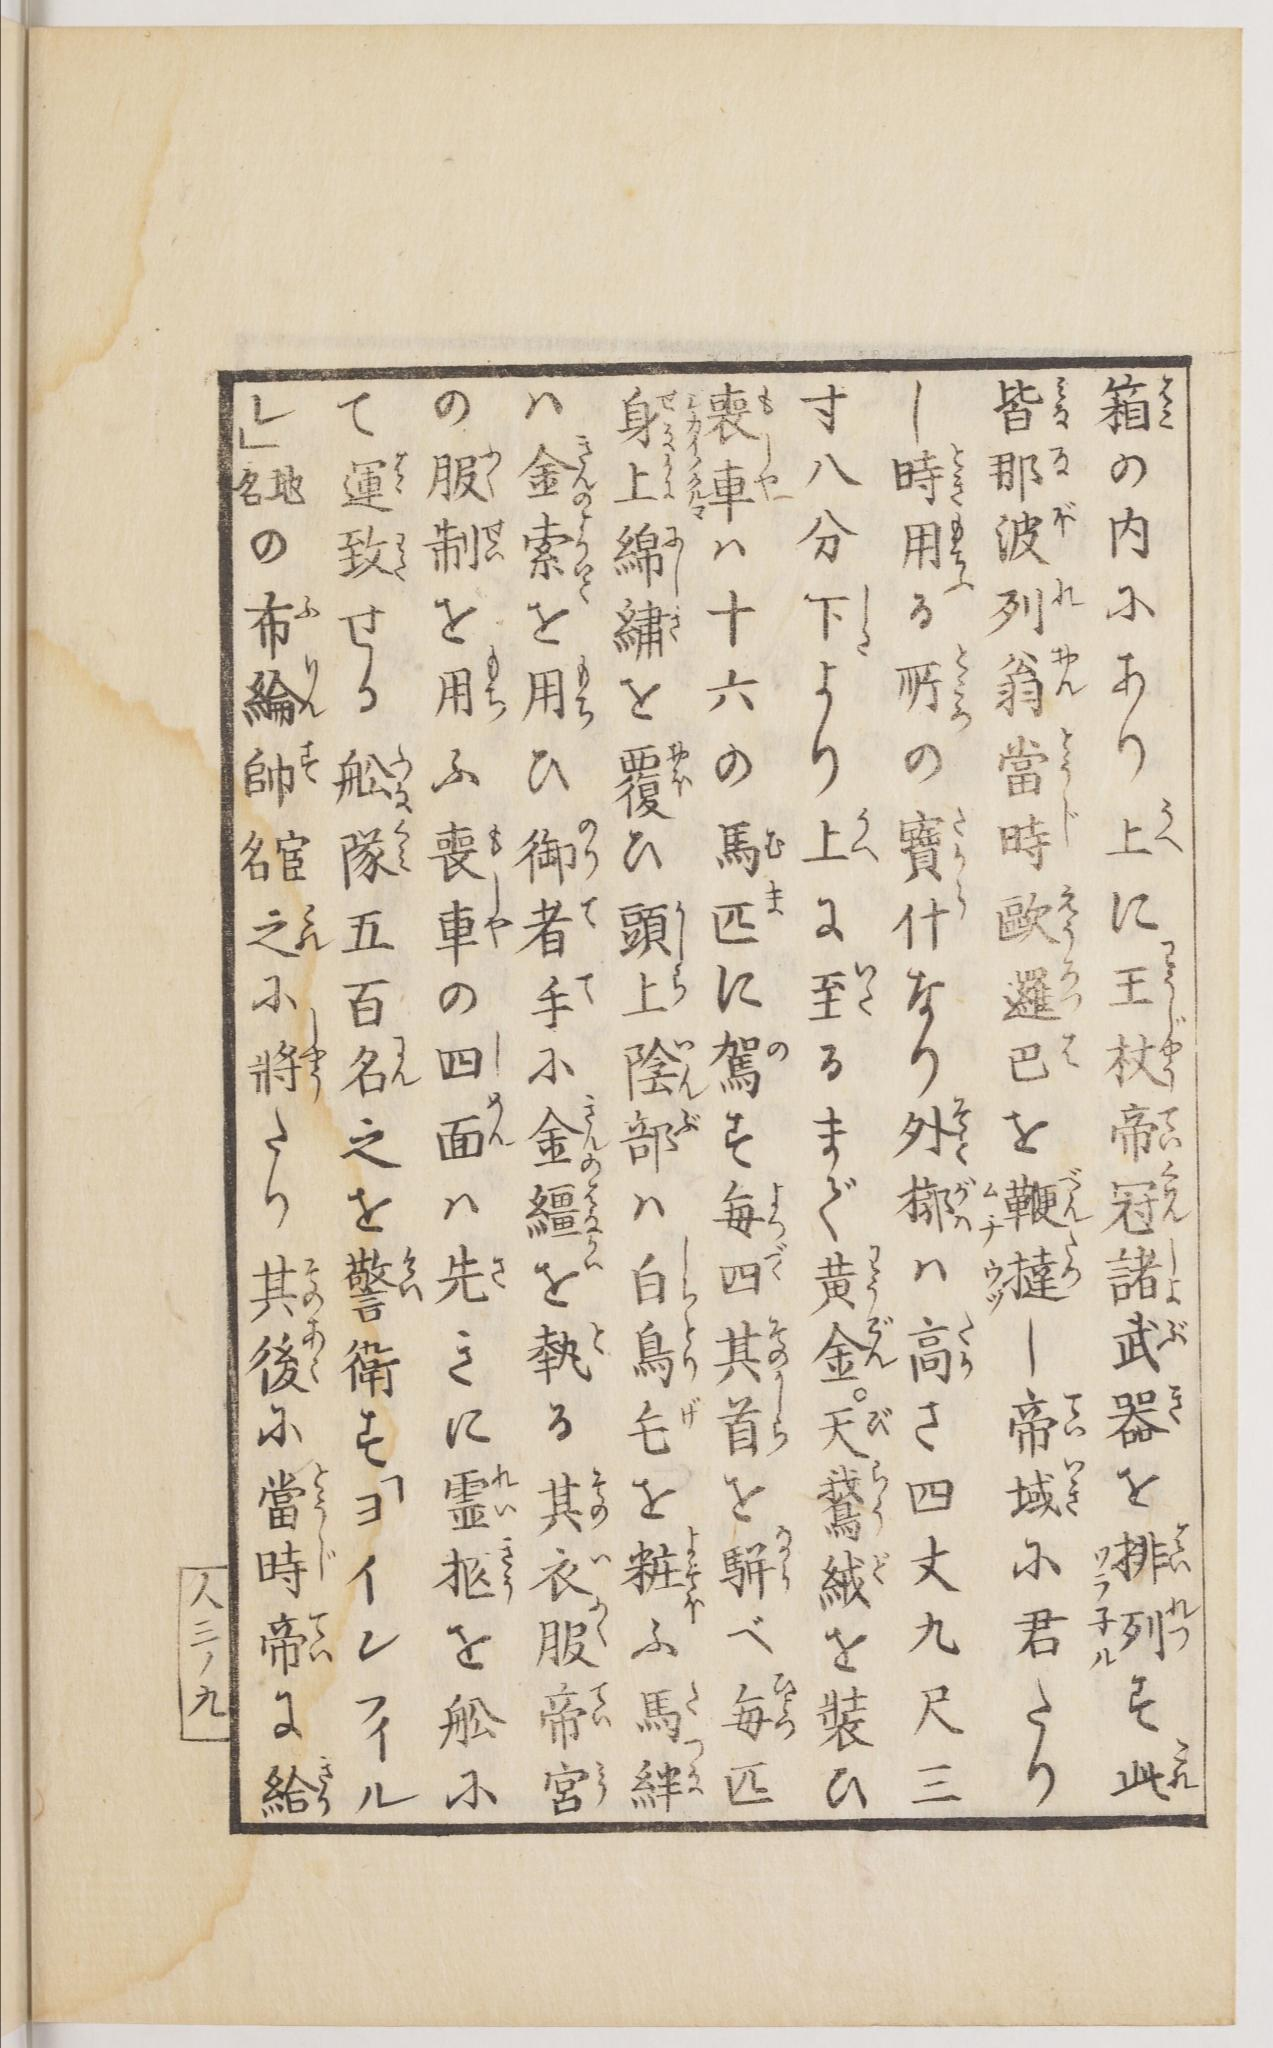MainZone-Character: (513, 1157, 610, 1270), (521, 494, 601, 603), (619, 1525, 708, 1621), (892, 644, 978, 733), (710, 1372, 793, 1459), (243, 1025, 336, 1101), (996, 720, 1082, 800), (1100, 1009, 1186, 1089), (716, 1522, 798, 1605), (612, 736, 692, 821), (625, 1737, 713, 1815), (710, 880, 795, 959), (984, 500, 1079, 570), (1101, 1161, 1191, 1234), (248, 1249, 330, 1328), (431, 648, 515, 726), (1122, 1583, 1198, 1668), (993, 645, 1088, 712), (434, 1536, 524, 1608), (613, 1031, 704, 1101), (242, 657, 324, 734), (428, 881, 510, 959), (999, 795, 1085, 868), (345, 1246, 425, 1324), (708, 1311, 792, 1385), (518, 657, 604, 729), (997, 885, 1085, 956), (887, 446, 975, 516), (1103, 1381, 1192, 1450), (899, 517, 978, 595), (997, 1454, 1093, 1519), (625, 1230, 701, 1311), (528, 1094, 609, 1170), (1107, 1737, 1198, 1805), (336, 740, 419, 814), (424, 1091, 509, 1163), (248, 1535, 345, 1598), (799, 583, 878, 660), (895, 1092, 975, 1167), (519, 888, 600, 963), (422, 516, 510, 583), (245, 582, 327, 654), (257, 1747, 339, 1819), (238, 740, 329, 805), (708, 1032, 793, 1101), (255, 1460, 343, 1526), (1005, 1167, 1094, 1231), (815, 1315, 900, 1382), (516, 815, 601, 883), (522, 430, 598, 504), (820, 1457, 890, 1538), (433, 1466, 521, 1531), (329, 824, 422, 884), (532, 1677, 616, 1745), (1107, 940, 1186, 1010), (1010, 1236, 1090, 1306), (257, 1607, 336, 1677), (249, 1328, 329, 1399), (726, 1665, 798, 1742), (1100, 1311, 1198, 1366), (333, 449, 411, 519), (993, 576, 1084, 636), (1096, 372, 1179, 437), (708, 449, 786, 517), (620, 1104, 698, 1173), (710, 806, 789, 874), (534, 1752, 615, 1818), (1003, 959, 1085, 1023), (528, 1318, 610, 1382), (1106, 1245, 1186, 1309), (610, 594, 691, 658), (629, 1314, 700, 1387), (343, 1032, 418, 1101), (1002, 1390, 1087, 1450), (248, 900, 329, 963), (900, 806, 969, 880), (434, 1242, 507, 1311), (905, 1315, 980, 1382), (815, 1246, 890, 1314), (610, 519, 685, 586), (425, 819, 509, 880), (616, 902, 694, 966), (535, 1466, 613, 1531), (1104, 1097, 1189, 1155), (422, 447, 512, 503), (808, 956, 878, 1026), (896, 888, 974, 951), (811, 1550, 892, 1610), (634, 1674, 708, 1739), (334, 523, 414, 583), (899, 1177, 981, 1234), (716, 1179, 793, 1239), (807, 803, 876, 871), (704, 383, 777, 446), (1115, 1522, 1195, 1579), (991, 374, 1074, 430), (814, 1403, 896, 1459), (987, 446, 1074, 498), (541, 1601, 612, 1665), (532, 969, 603, 1034), (534, 1542, 613, 1599), (626, 1391, 700, 1453), (716, 1240, 795, 1294), (626, 966, 701, 1023), (610, 450, 675, 506), (622, 386, 678, 449)
MainZone-Ruby: (572, 494, 601, 605), (581, 1155, 606, 1272), (946, 644, 980, 730), (862, 1314, 905, 1378), (679, 1522, 705, 1623), (943, 515, 975, 597), (771, 1519, 802, 1602), (1157, 1010, 1191, 1086), (296, 1028, 331, 1099), (1056, 1163, 1096, 1226), (1164, 1589, 1203, 1654), (763, 1371, 792, 1453), (670, 1029, 702, 1098), (387, 739, 418, 811), (1159, 1160, 1188, 1233), (768, 1665, 798, 1739), (1049, 645, 1082, 705), (946, 1094, 975, 1163), (296, 657, 326, 726), (293, 736, 329, 792), (942, 446, 972, 509), (566, 430, 598, 490), (485, 885, 513, 954), (295, 900, 330, 954), (852, 956, 880, 1023), (304, 1605, 334, 1665), (389, 1032, 419, 1092), (950, 1173, 980, 1236), (858, 1246, 887, 1309), (481, 651, 506, 724), (958, 1311, 980, 1393), (1170, 1737, 1201, 1796), (1151, 371, 1179, 435), (666, 737, 694, 802), (682, 1736, 710, 1800), (572, 661, 600, 726), (485, 1088, 513, 1152), (678, 1233, 701, 1309), (1063, 1456, 1091, 1519), (848, 806, 880, 861), (576, 1092, 606, 1151), (308, 1460, 336, 1522), (304, 1319, 326, 1397), (1049, 567, 1082, 617), (1053, 723, 1076, 793), (852, 585, 876, 655), (763, 1315, 792, 1371), (763, 1182, 792, 1236), (481, 512, 507, 572), (946, 805, 968, 877), (497, 1533, 519, 1605), (302, 1250, 327, 1314), (393, 1248, 421, 1303), (661, 520, 685, 586), (493, 1462, 519, 1520), (312, 1536, 342, 1589), (1159, 1101, 1186, 1155), (588, 1680, 616, 1734), (764, 1239, 795, 1286), (578, 814, 600, 878), (1059, 956, 1082, 1016), (392, 824, 418, 877), (1167, 1523, 1195, 1573), (1057, 1234, 1082, 1290), (1049, 498, 1082, 539), (870, 1459, 887, 1536), (670, 899, 692, 960), (1059, 885, 1079, 949), (1160, 941, 1181, 1004), (1162, 1242, 1182, 1305), (679, 1312, 698, 1380), (865, 1403, 898, 1443), (754, 450, 782, 496), (312, 1753, 333, 1815), (1052, 375, 1074, 432), (588, 1599, 615, 1646), (1062, 1381, 1084, 1437), (484, 1250, 512, 1294), (1057, 798, 1081, 849), (390, 443, 414, 494), (763, 1035, 795, 1072), (1157, 1309, 1188, 1347), (658, 386, 678, 447), (590, 1753, 612, 1806), (870, 1545, 893, 1594), (682, 1670, 704, 1721), (656, 449, 676, 503), (587, 1469, 607, 1523), (395, 522, 411, 591), (296, 588, 324, 627), (673, 1104, 701, 1143), (763, 874, 786, 919), (1049, 441, 1074, 484), (1164, 1380, 1188, 1423), (484, 818, 506, 863), (481, 443, 503, 487), (761, 824, 785, 862), (576, 888, 600, 927), (669, 969, 692, 1006), (953, 884, 975, 922), (664, 600, 683, 644), (576, 966, 595, 1010), (754, 387, 777, 421), (679, 1391, 701, 1426), (591, 1321, 609, 1359), (593, 1547, 615, 1572)
